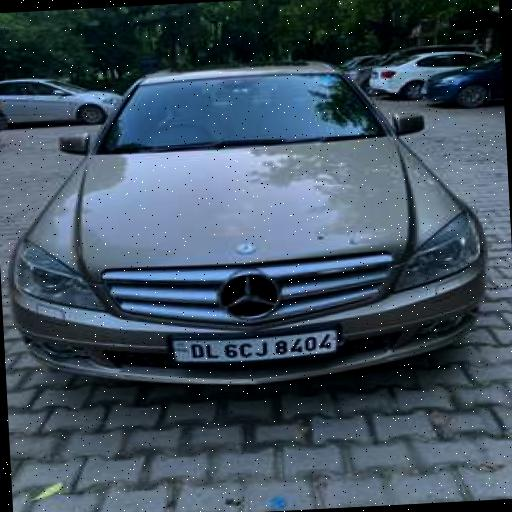license_plate`: (170, 326, 334, 363)
